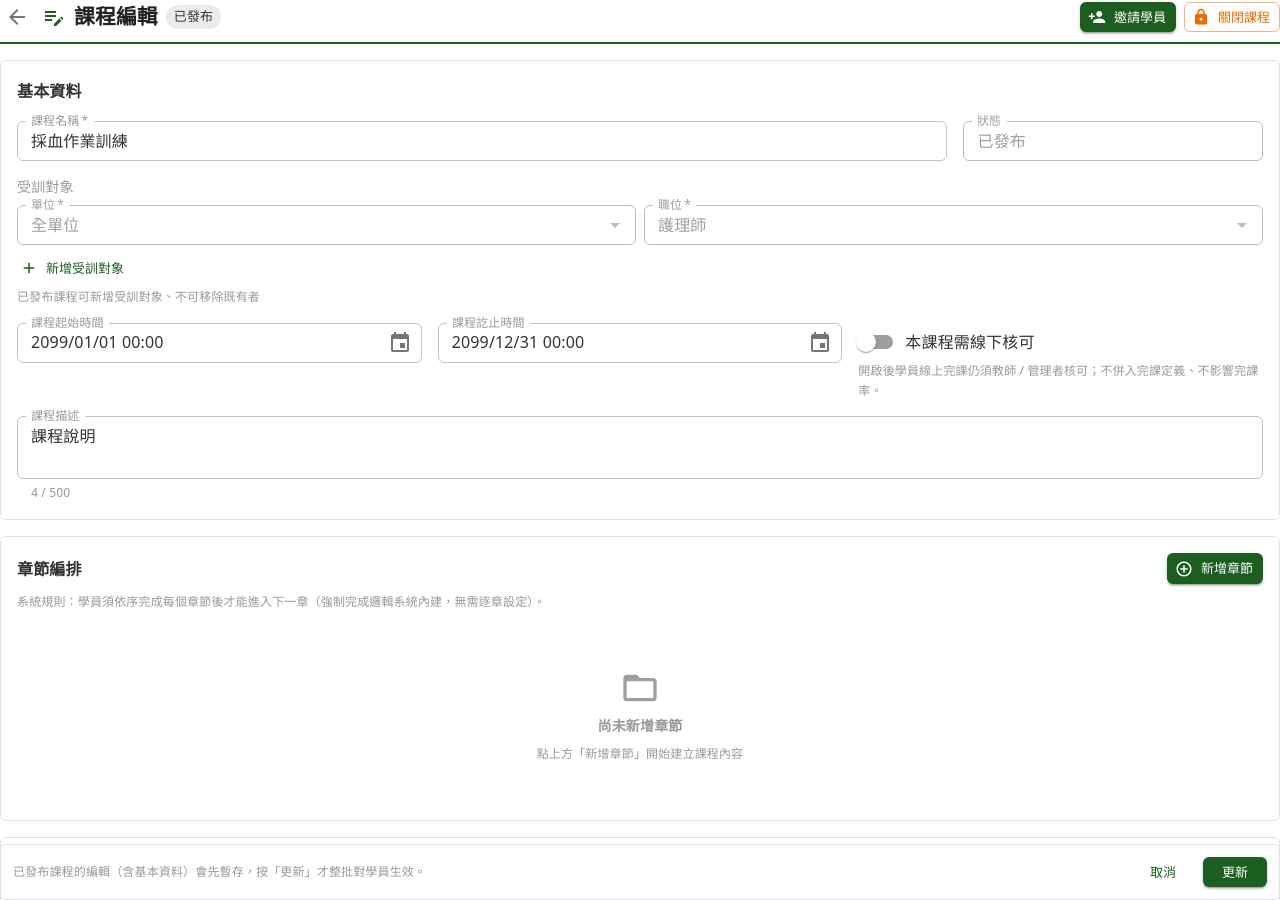
Test: 草稿按「取消」要先講清楚哪一半留著（#804 ①） › 🔴 已發布、無暫存、基本資料有改 → 先問，且講明章節那半沒有待處理的編輯（#812）
Type "X" into the field showing "採血作業訓練" at (482,141), box [17,121,948,161]
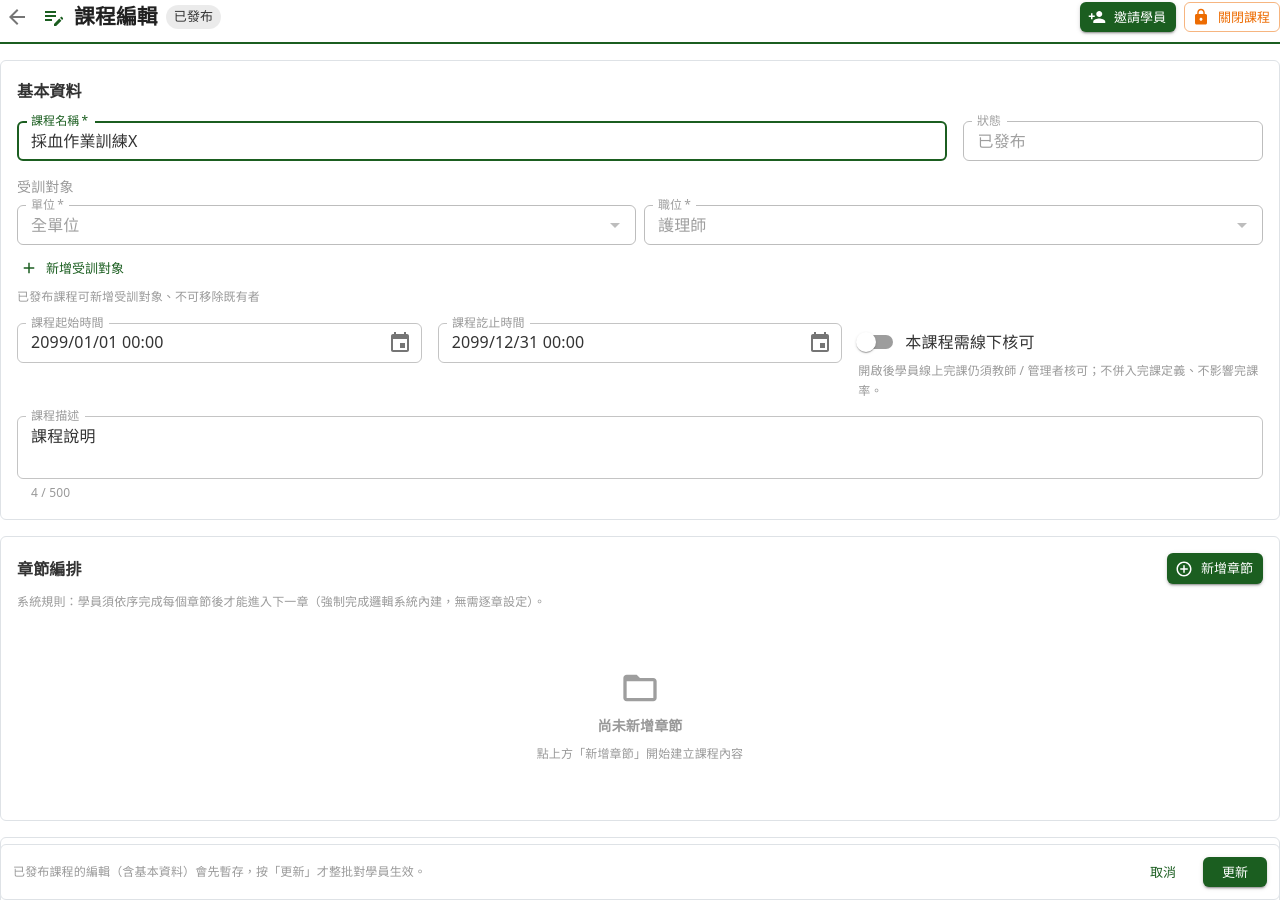
Click the button "取消" at (1163,872), box [1131,856,1195,887]
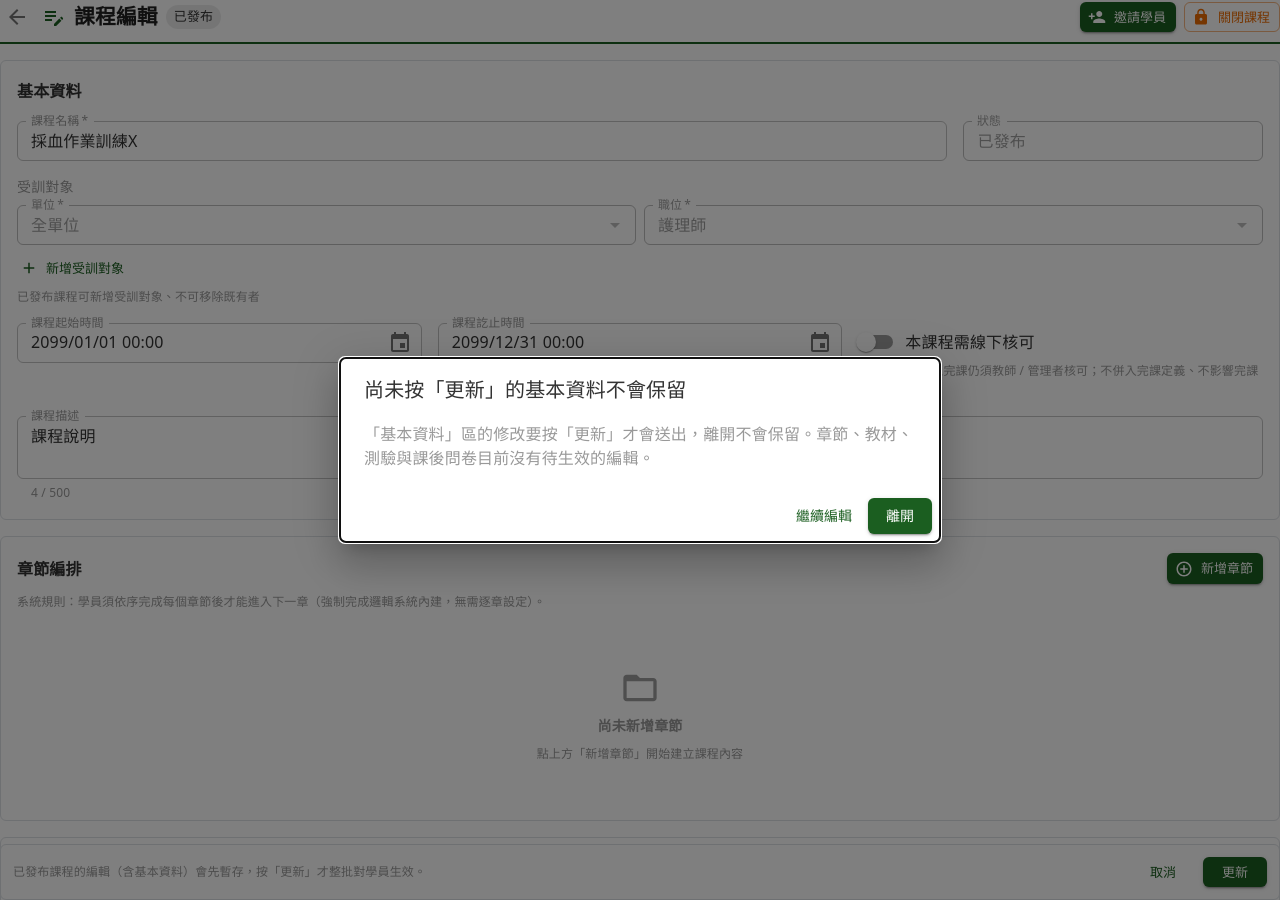
Result: the heading "尚未按「更新」的基本資料不會保留" is shown at [364,376,686,403]
Result: the text "「基本資料」區的修改要按「更新」才會送出，離開不會保留。章節、教材、測驗與課後問卷目前沒有待生效的編輯。" is shown at [364,422,916,470]
Result: the button "離開" is shown at [868,498,932,534]
